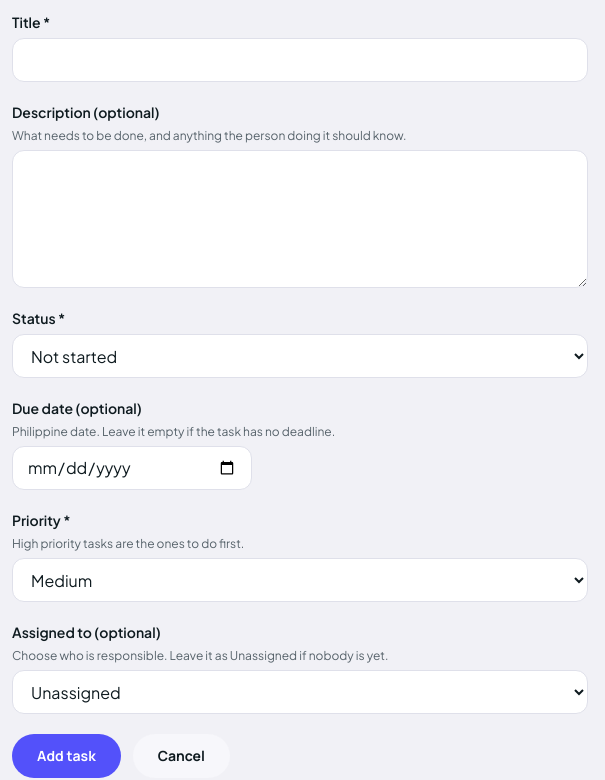
Scenario: TaskForm (add) › says nothing was saved when the request fails, with no field errors
Click the button "Add task". click: [66, 756]
box: [12,734,121,778]
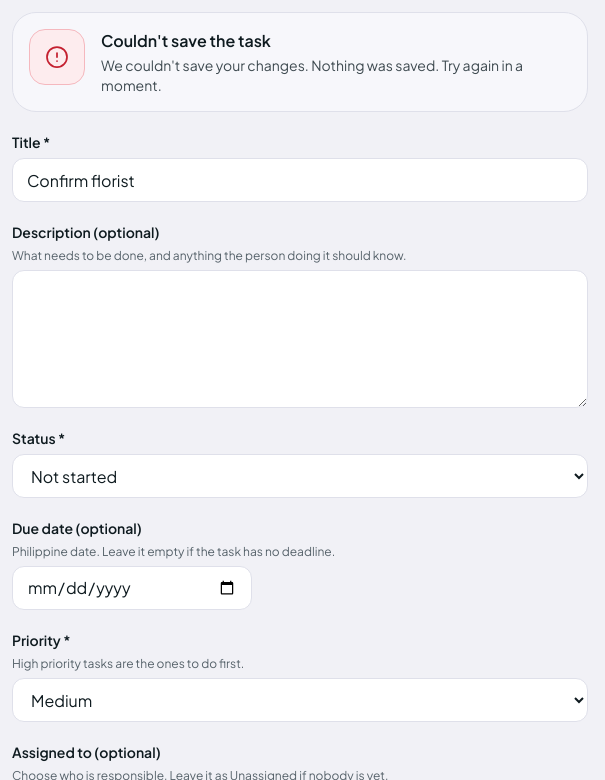
Now the message shows "Nothing was saved", box [101,56,523,94]
Now the field labelled "Title *" holds "Confirm florist", box [12,158,588,202]
